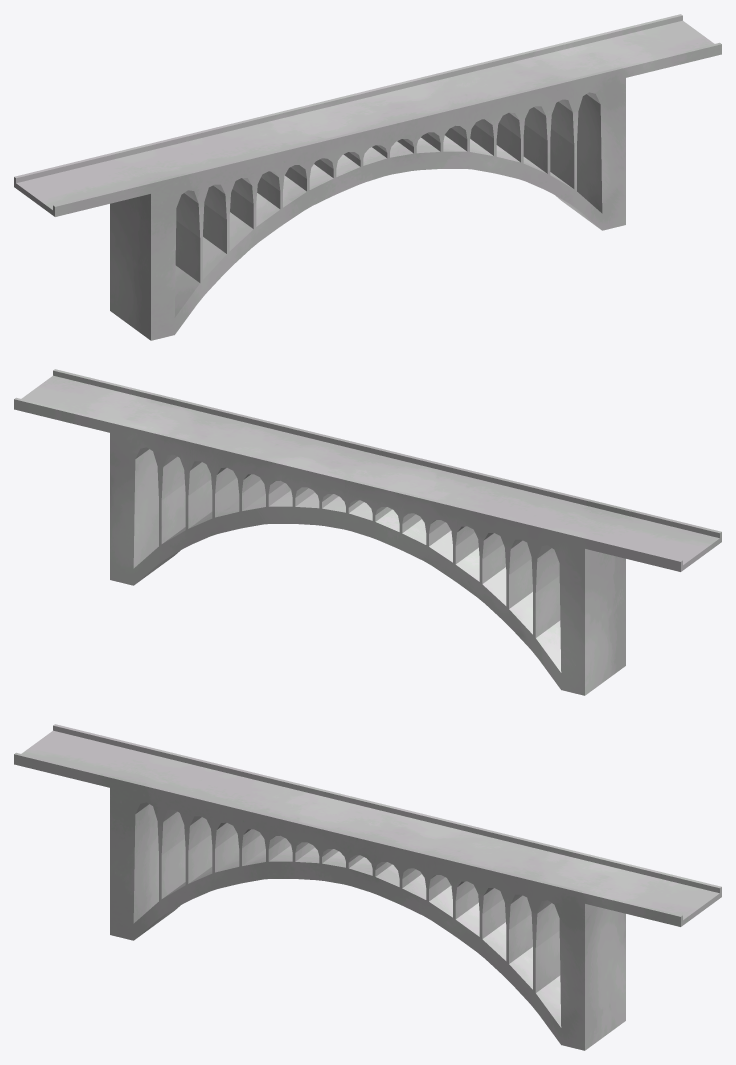
File: Bridge.fbx
The picture shows the model from 3 angles, top to bottom: view 1: azimuth 30°, elevation 25°; view 2: azimuth 150°, elevation 25°; view 3: azimuth 330°, elevation 25°; orthographic projection.
Parts seen in each view (by area): view 1: node_id4; view 2: node_id4; view 3: node_id4.
Part boxes in pixels (x1,y1,x2,y2): node_id4: [14, 14, 721, 340]; node_id4: [14, 369, 721, 695]; node_id4: [14, 724, 721, 1050].
Size of the model in its own units: 0.512 by 0.1155 by 0.0547.
1 material, 1 textured.
